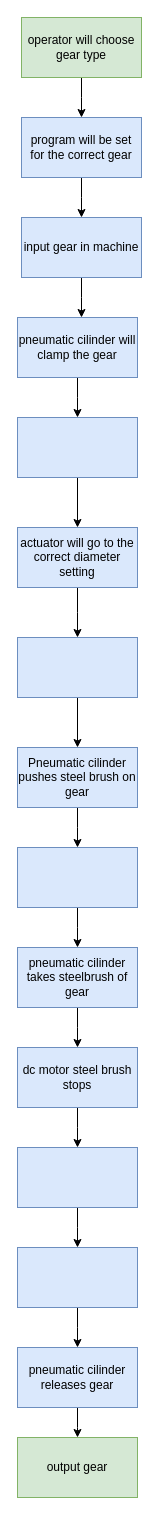
Some shapes in this 159 by 1515 pixel diagram are drawn without their labels. The shapes that lost their labels are listed below. From the top down, each one's centre as x and y in pixels, then its label:
At (x=77, y=447): "Dc motor drives turntable".
At (x=77, y=667): "dc motor drives steelbrush".
At (x=77, y=877): "wait until the turntable rotates for 360 degrees".
At (x=77, y=1177): "dc motor turntable stops".
At (x=77, y=1277): "actuator moves to home".
